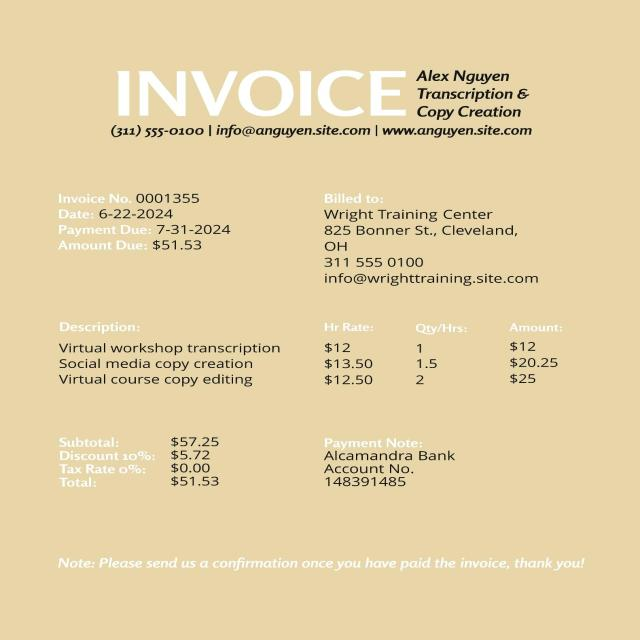paragraph: (313, 192, 546, 288), (105, 66, 413, 120), (55, 191, 236, 259), (55, 554, 588, 574), (58, 436, 227, 488), (106, 123, 541, 142), (320, 435, 460, 490), (417, 71, 537, 123)
table: (51, 321, 568, 394)
